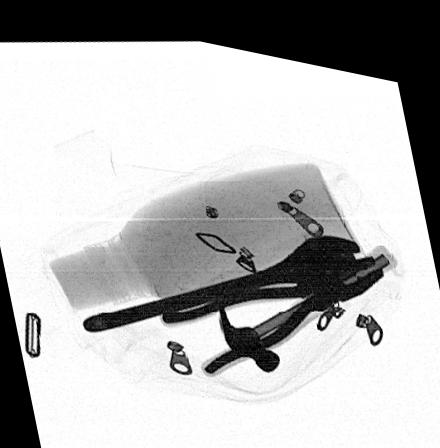Hammer: (220, 228, 398, 362)
Pliers: (161, 238, 391, 369)
Wrench: (80, 219, 359, 327)
